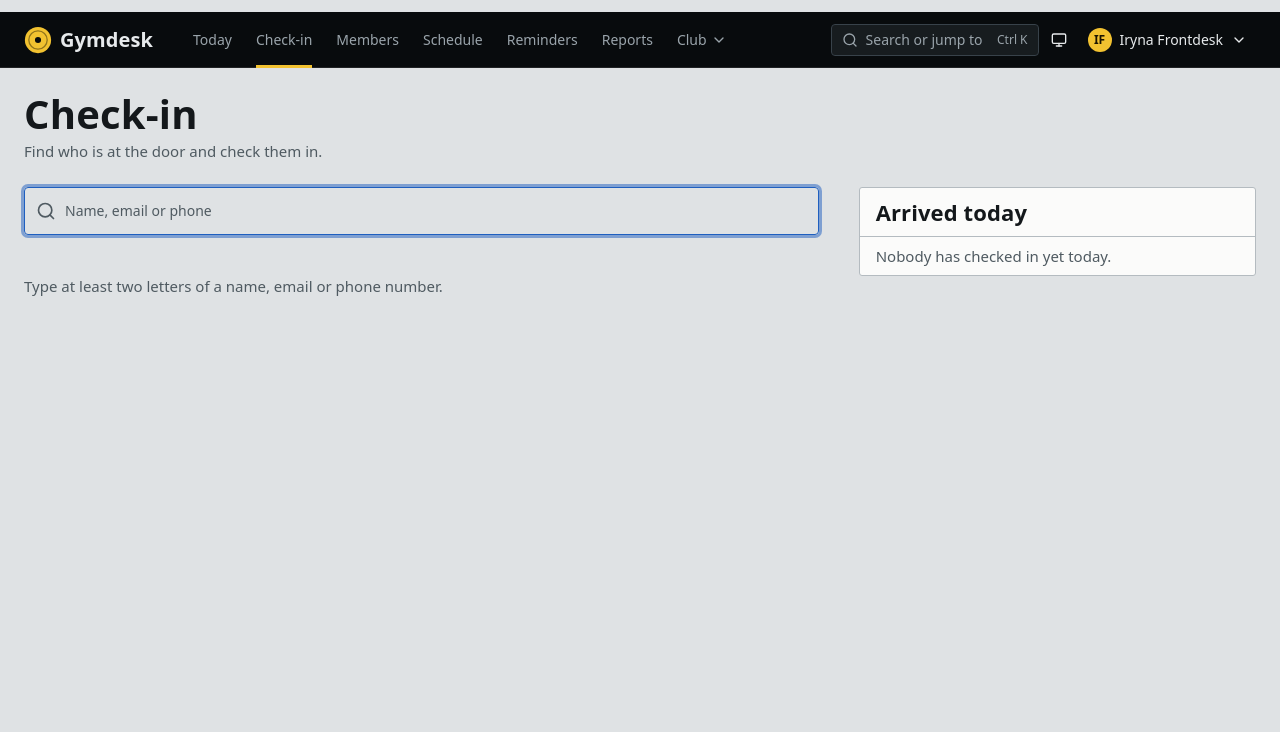
Test: checking someone in › checks the member in with the button, clears the search and lists them as arrived
The image size is (1280, 732).
Expected: the heading "Check-in" is shown, [24, 86, 198, 141]
Type "olena" into the search field named "Find a member".
click(421, 210); type("olena")  # box [24, 186, 819, 234]
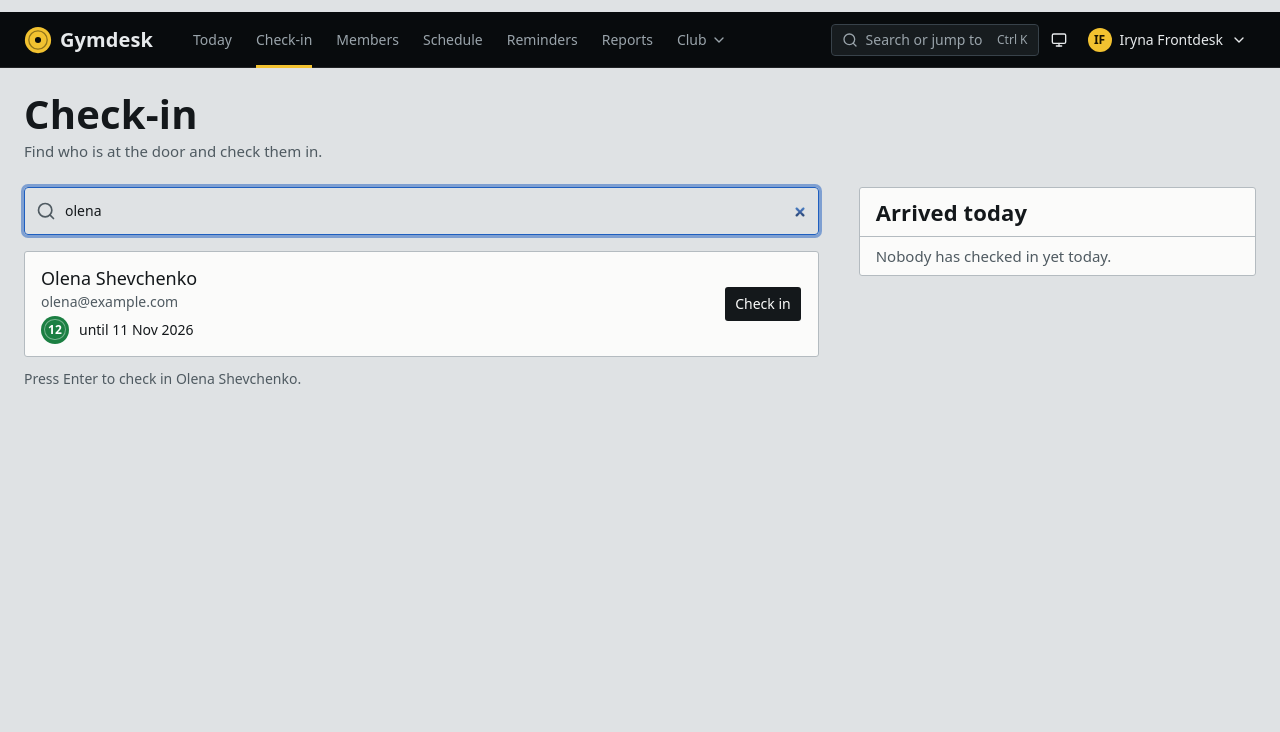
Click the button with aria-label "Check in Olena Shevchenko".
click(763, 304)  # box [724, 286, 802, 322]
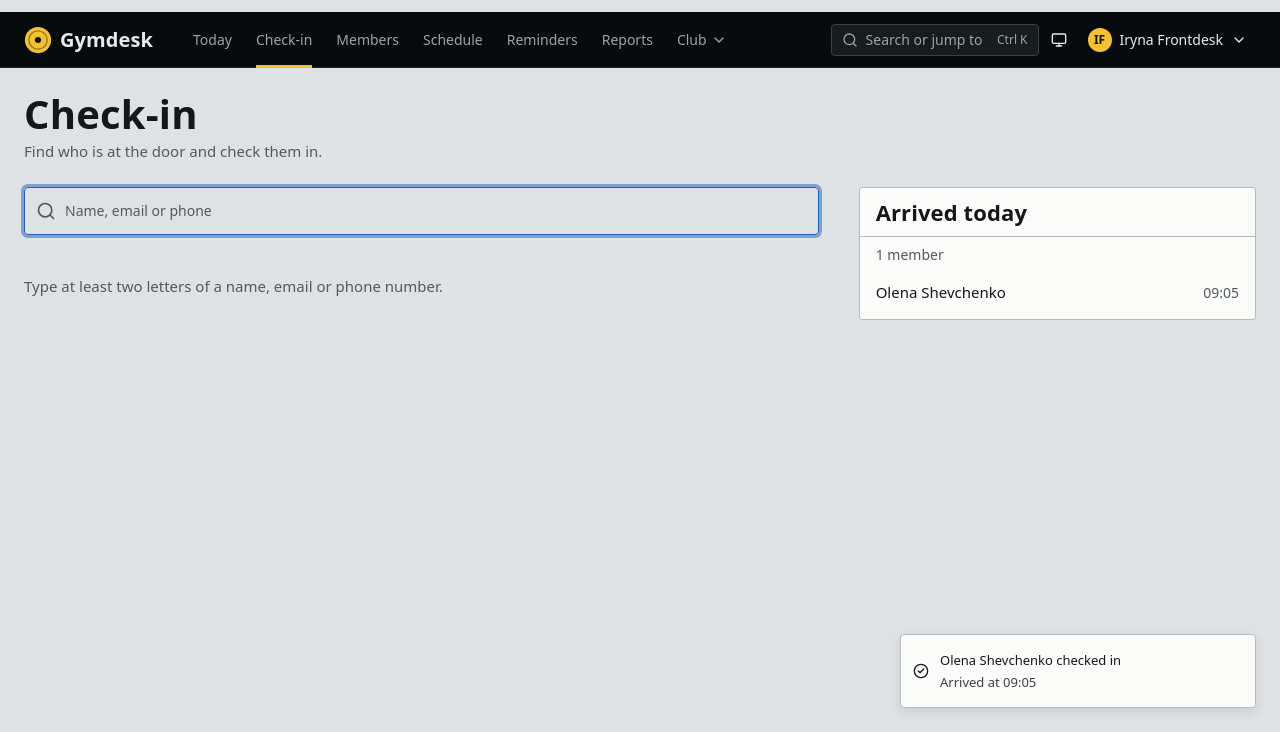
Expected: the link "Olena Shevchenko" is shown, [876, 281, 1006, 303]
Expected: the text "Olena Shevchenko checked in" is shown, [940, 651, 1121, 671]
Expected: the search field named "Find a member" is empty, [24, 186, 819, 234]
